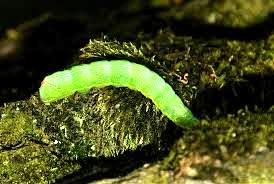Caterpillar: (34, 58, 206, 138)
